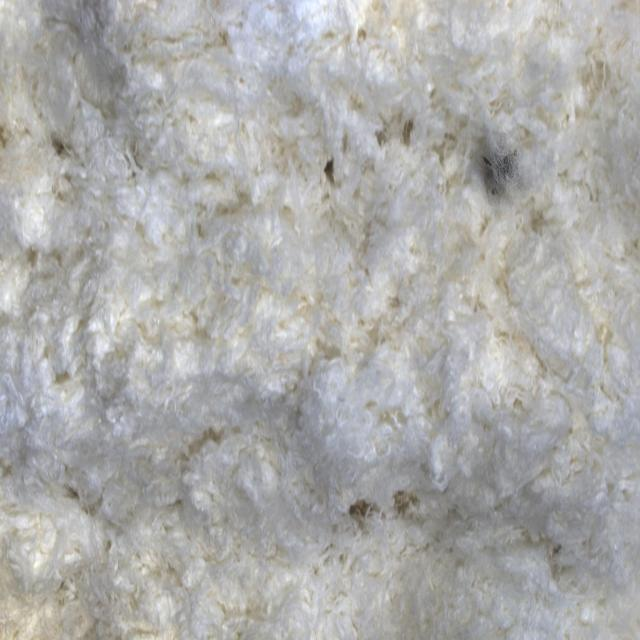dust: (434, 108, 543, 220)
